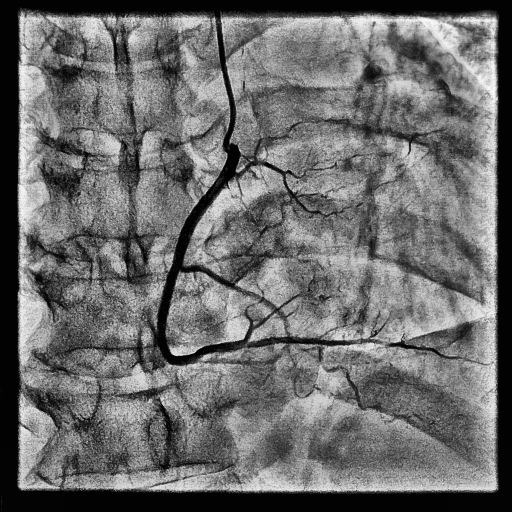pborca: (244, 283, 264, 341)
pda: (242, 337, 470, 361)
rca: (157, 146, 244, 365)
